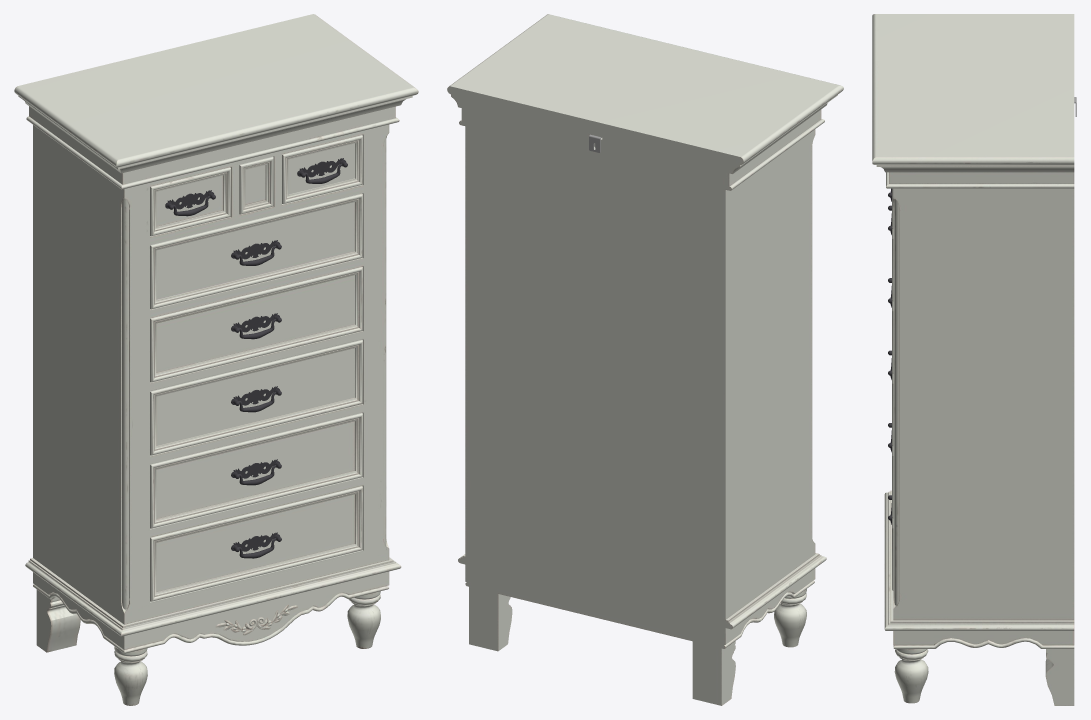
File: example145.glb
3 renders of one model, left to right at view 1: azimuth 30°, elevation 25°; view 2: azimuth 150°, elevation 25°; view 3: azimuth 270°, elevation 25°, orthographic.
Parts seen in each view (by area): view 1: Buffer Layer (×2); view 2: Buffer Layer; view 3: Buffer Layer.
Boxes of the visible parts, box(x1,y1,x2,y2) form: Buffer Layer (×2): box(14, 14, 418, 705); Buffer Layer: box(447, 14, 843, 705); Buffer Layer: box(872, 14, 1074, 705).
Size of the model in its own units: 0.575 by 1.03 by 0.3404.
Materials: 3 (2 with a texture image).
